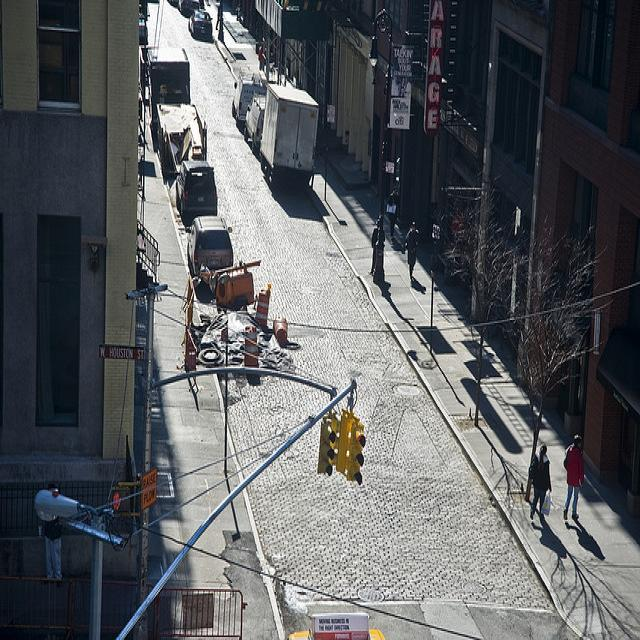Vehicle: (260, 86, 320, 189), (146, 42, 190, 146), (184, 216, 233, 278), (175, 161, 218, 227), (244, 95, 266, 157), (188, 8, 213, 39), (178, 0, 199, 17)
